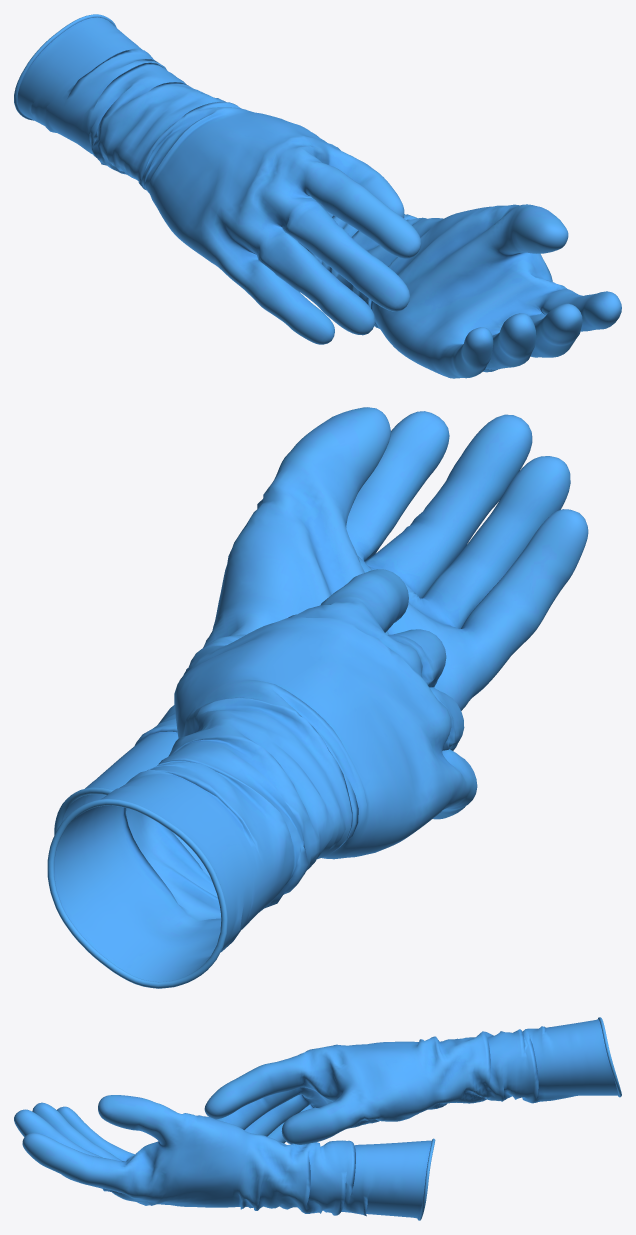
3 views of the same model, one above another, from view 1: azimuth 30°, elevation 25°; view 2: azimuth 150°, elevation 25°; view 3: azimuth 270°, elevation 25° (orthographic). The views are drawn at different scales.
Parts seen in each view (by area): view 1: Glove_rubber_low, Glove_rubber_low.001; view 2: Glove_rubber_low, Glove_rubber_low.001; view 3: Glove_rubber_low.001, Glove_rubber_low.
Part boxes in pixels (<box>): Glove_rubber_low: <box>14,14,421,344</box>; Glove_rubber_low.001: <box>298,204,621,378</box>; Glove_rubber_low: <box>47,569,477,988</box>; Glove_rubber_low.001: <box>54,407,588,835</box>; Glove_rubber_low.001: <box>14,1095,435,1220</box>; Glove_rubber_low: <box>204,1017,621,1144</box>.
Size of the model in its own units: 14 by 10.44 by 35.93.
1 material, 1 textured.
